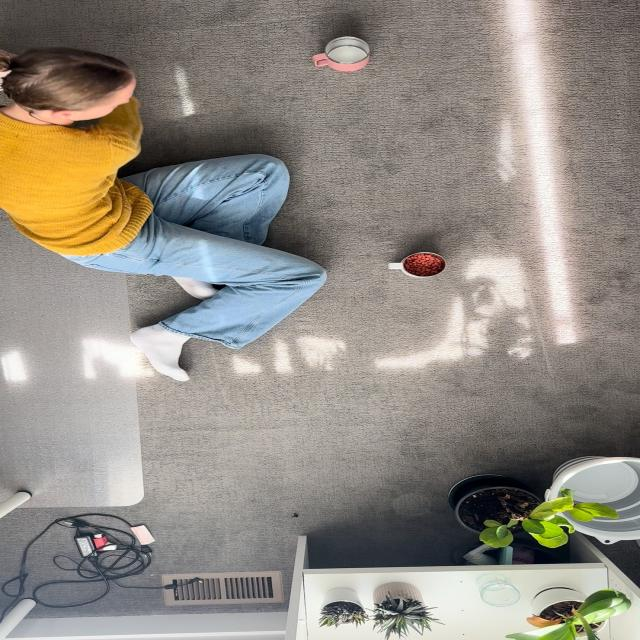IBC: (312, 36, 370, 72), (388, 252, 446, 278)
